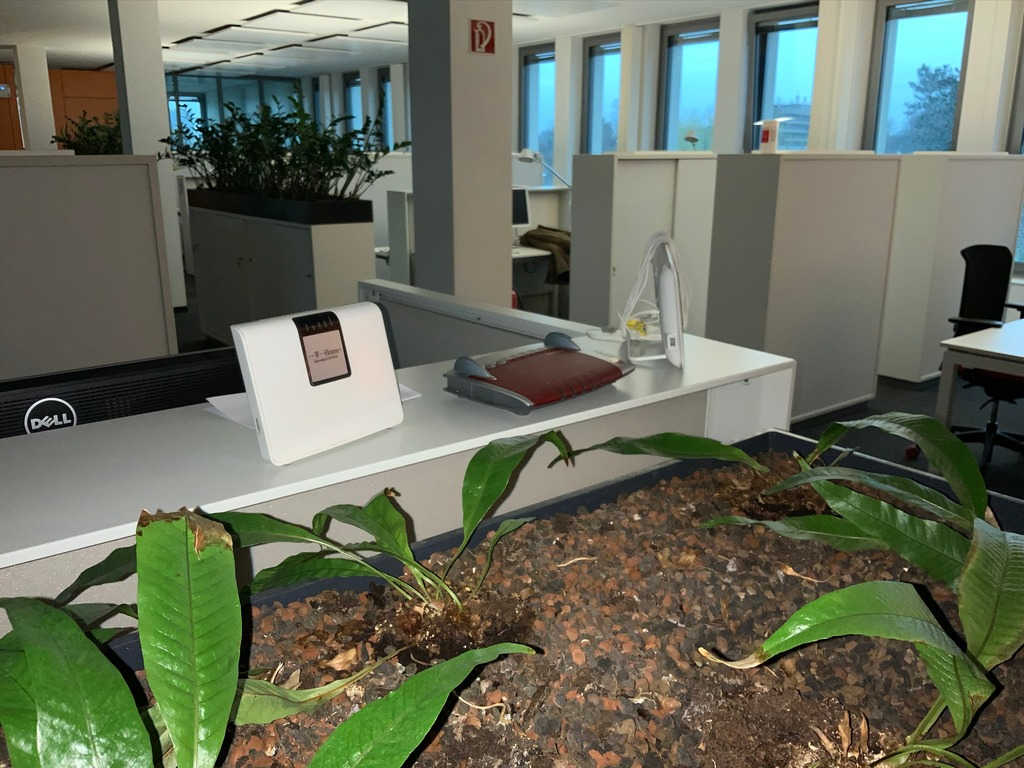Router2: (225, 301, 400, 469)
router: (622, 243, 692, 372)
router3: (448, 326, 623, 418)
